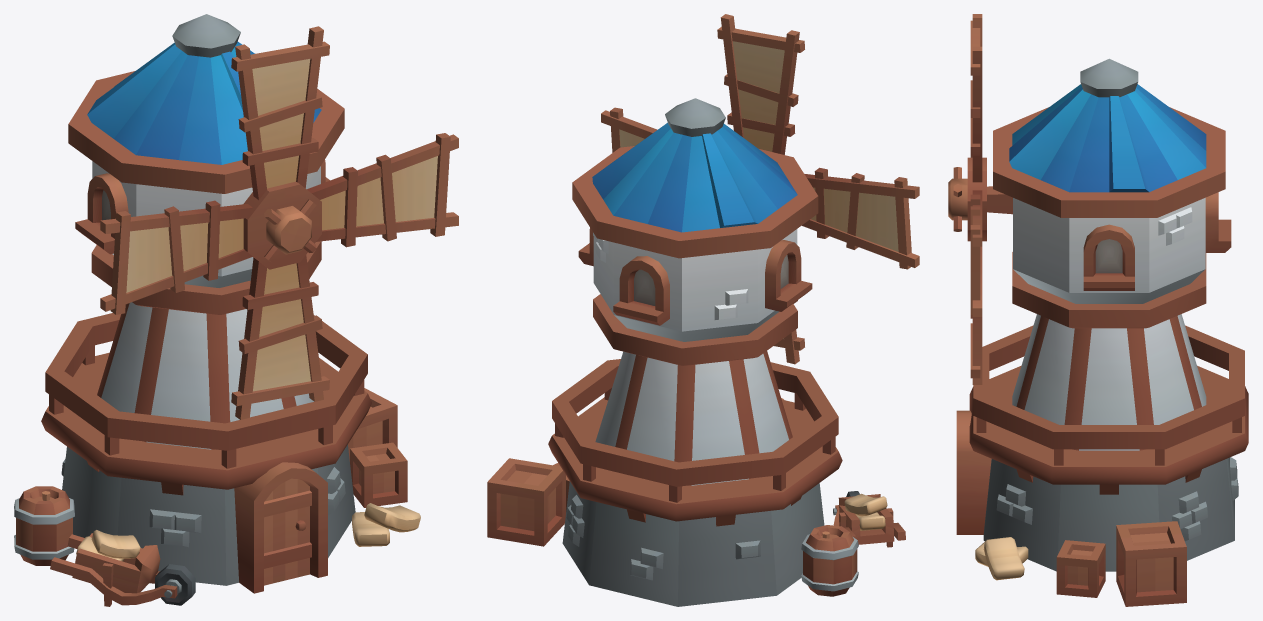
The model's file is kay-moinho-vento.gltf.
The picture shows the model from 3 angles, left to right: view 1: azimuth 30°, elevation 25°; view 2: azimuth 150°, elevation 25°; view 3: azimuth 270°, elevation 25°; orthographic projection. The views are drawn at different scales.
Visible parts, largest first — view 1: building_windmill_blue; view 2: building_windmill_blue; view 3: building_windmill_blue.
Boxes of the visible parts, bbox=[...] form: building_windmill_blue: bbox=[14, 14, 458, 606]; building_windmill_blue: bbox=[487, 14, 919, 606]; building_windmill_blue: bbox=[948, 14, 1248, 606].
Bounding box in the file's own units: 5.63 × 7.29 × 4.08.
1 material, 1 textured.
